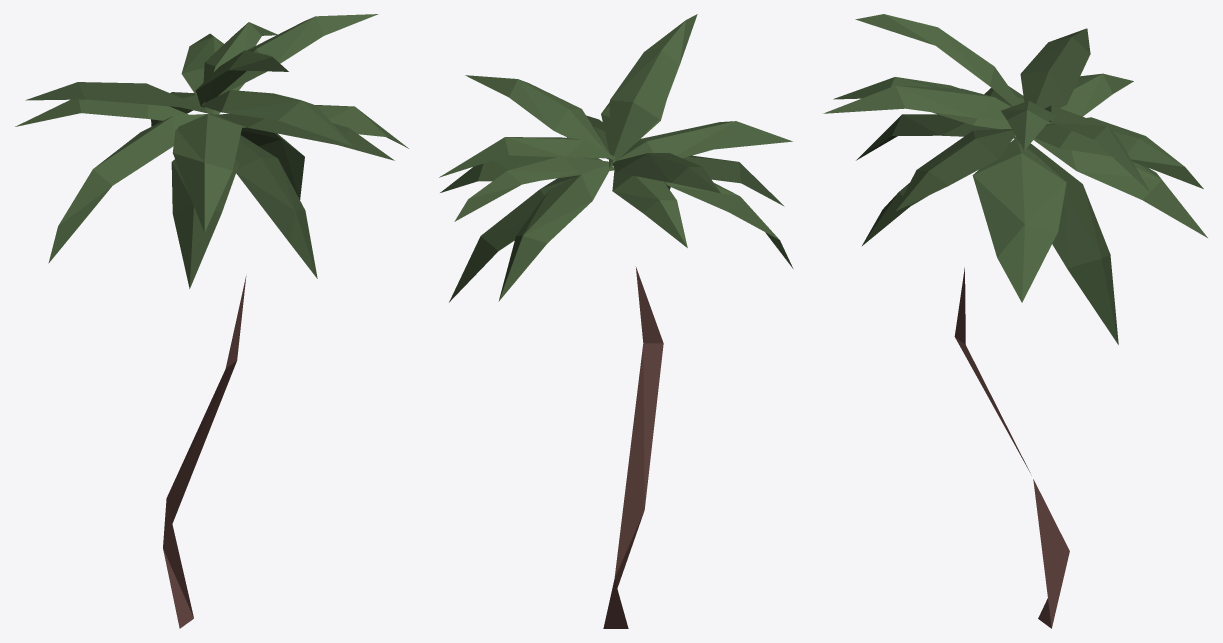
Rendered from qn_palm_a.glb.
The picture shows the model from 3 angles, left to right: view 1: azimuth 30°, elevation 25°; view 2: azimuth 150°, elevation 25°; view 3: azimuth 270°, elevation 25°; orthographic projection. The views are drawn at different scales.
Parts seen in each view (by area): view 1: qn_palm_a; view 2: qn_palm_a; view 3: qn_palm_a.
Boxes of the visible parts, x1,y1,x2,y2 form: qn_palm_a: (15,14,408,628); qn_palm_a: (439,14,793,628); qn_palm_a: (823,14,1207,628).
Size of the model in its own units: 2.84 by 4.47 by 2.56.
